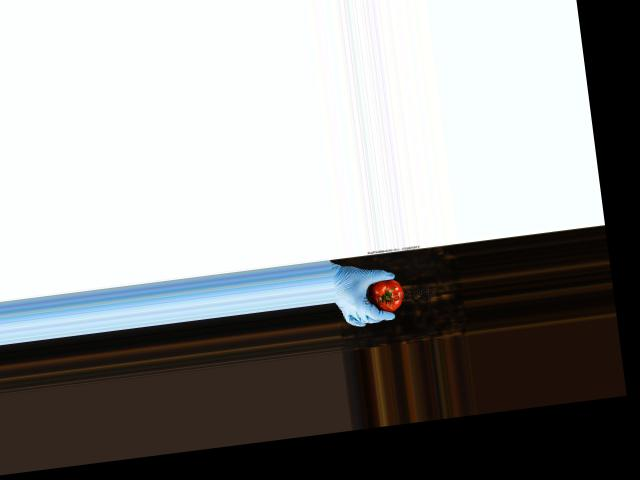tomato: (366, 277, 406, 314)
